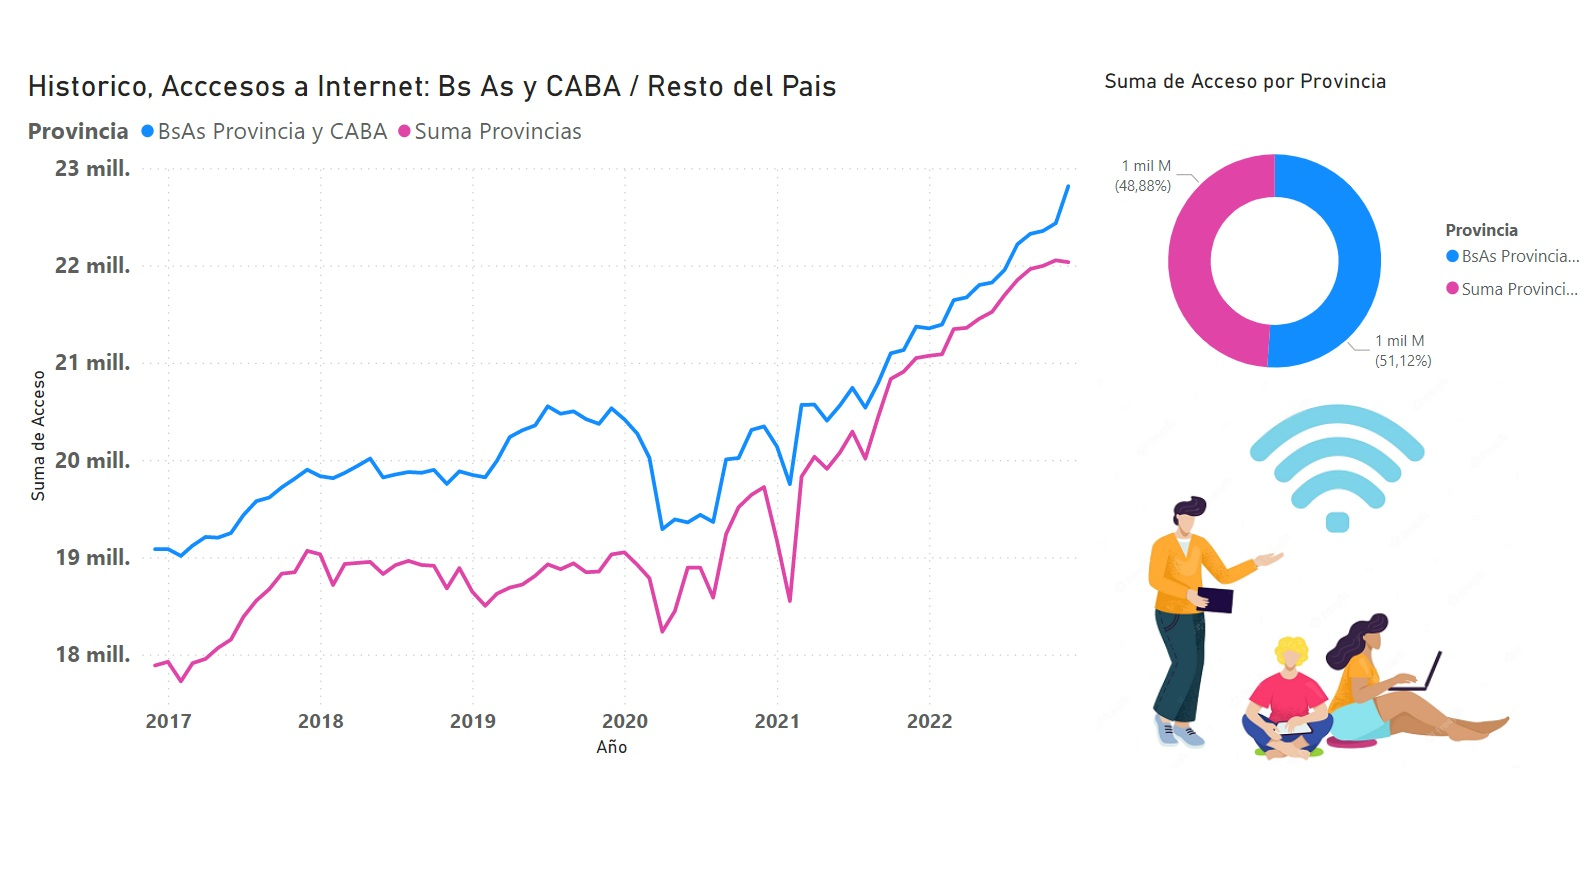

The dashboard page shown, as its layout file describes it:
{"tool":"powerbi","page":{"name":"Página 3","canvas":[1280,720],"ordinal":1},"visuals":[{"type":"lineChart","title":"Historico, Acccesos a Internet: Bs As y CABA / Resto del Pais","fields":{"Category":["BSmenosElPais.Fecha.Variación.Jerarquía de fechas.Año","BSmenosElPais.Fecha.Variación.Jerarquía de fechas.Mes"],"Series":["BSmenosElPais.Provincia"],"Y":["Sum(BSmenosElPais.Acceso)"]},"box":[20,61.5,859.7,554.8],"z":0},{"type":"donutChart","fields":{"Y":["Sum(BSmenosElPais.Acceso)"],"Series":["BSmenosElPais.Provincia"]},"box":[879.8,61.2,400.2,288.9],"z":1},{"type":"image","box":[874.1,304.1,348,321.7],"z":2}]}

Visuals, with their boxes in screenshot pixels (x1, y1, x2, y2), scaled from the page's 1280x720 canvas onto the 1593x887 screenshot:
"Historico, Acccesos a Internet: Bs As y CABA / Resto del Pais" lineChart: select_region(25, 76, 1095, 759)
donutChart - Sum(BSmenosElPais.Acceso) x BSmenosElPais.Provincia: select_region(1095, 75, 1592, 431)
image: select_region(1088, 375, 1521, 771)
